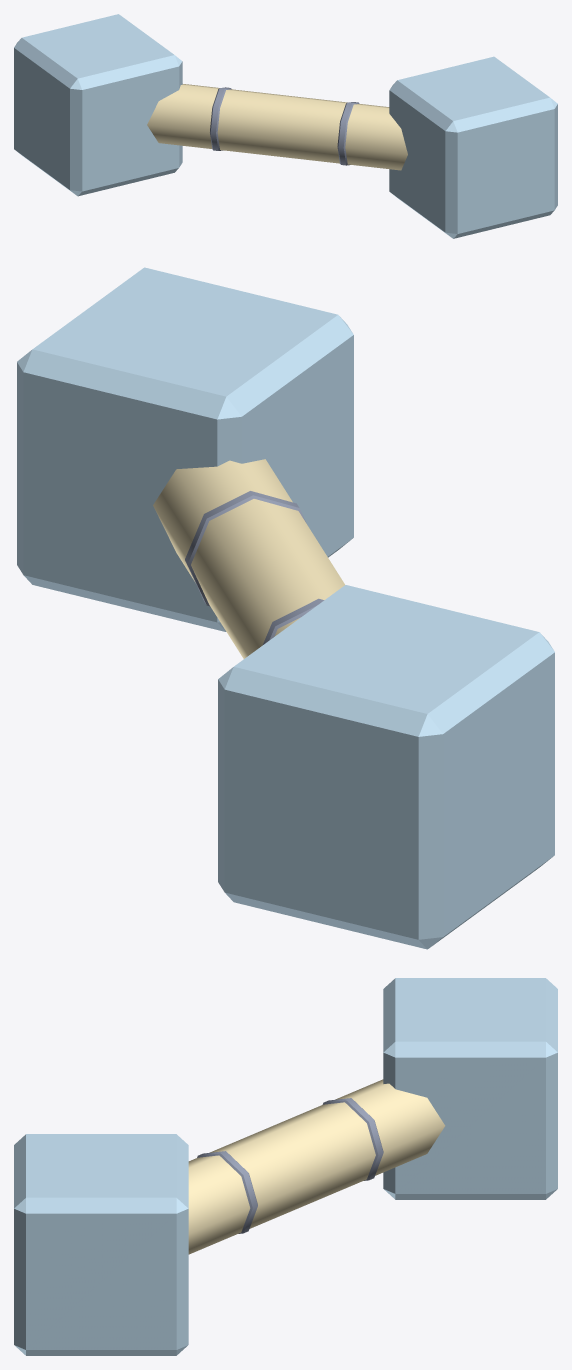
The model's file is R4C_STRUT_DIAG_2D_LOD1.glb.
3 renders of one model, top to bottom at view 1: azimuth 30°, elevation 25°; view 2: azimuth 150°, elevation 25°; view 3: azimuth 270°, elevation 25°, orthographic. The views are drawn at different scales.
Parts seen in each view (by area): view 1: R4C_STRUT_DIAG_2D_LOD1; view 2: R4C_STRUT_DIAG_2D_LOD1; view 3: R4C_STRUT_DIAG_2D_LOD1.
Part boxes in pixels (left/top/right/bottom): R4C_STRUT_DIAG_2D_LOD1: left=14, top=14, right=557, bottom=238; R4C_STRUT_DIAG_2D_LOD1: left=17, top=267, right=554, bottom=949; R4C_STRUT_DIAG_2D_LOD1: left=14, top=978, right=557, bottom=1355.
Size of the model in its own units: 1.62 by 0.52 by 1.62.
